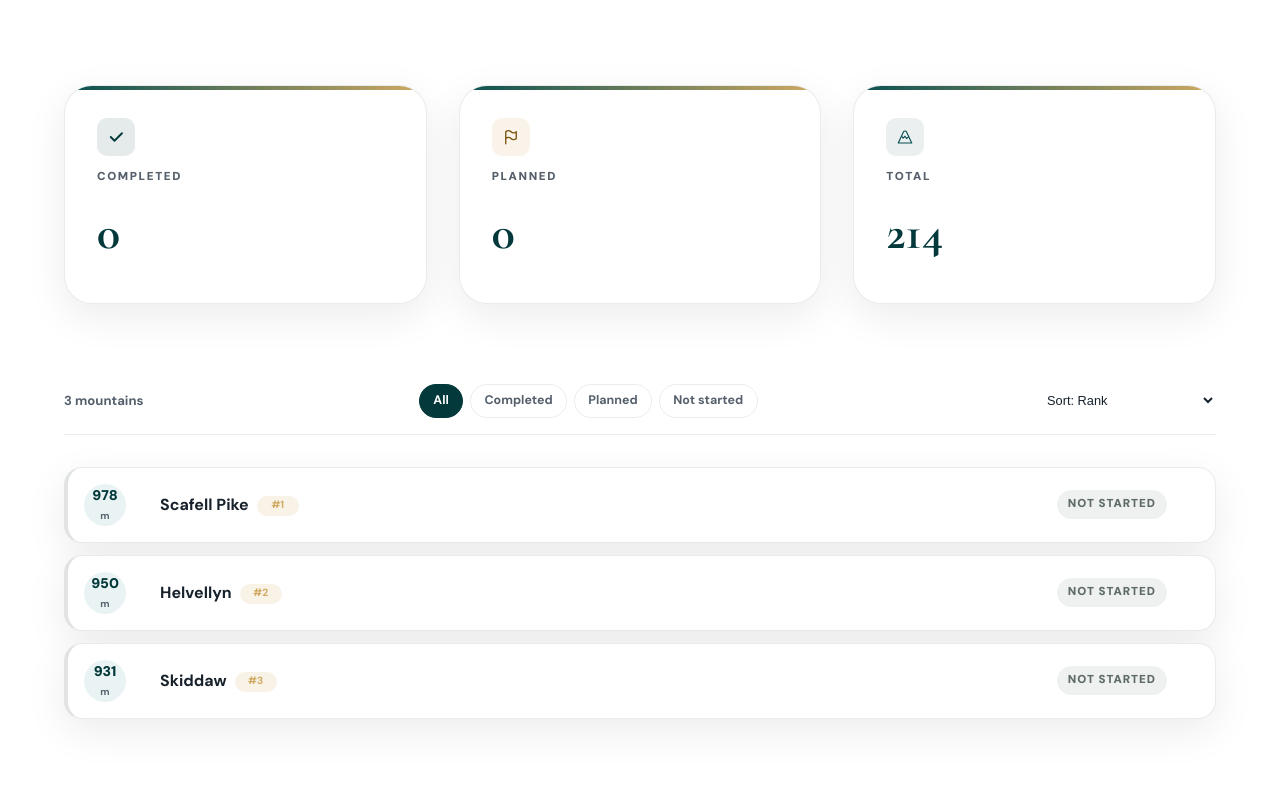
Test: CollectionDetailPage — success state › shows empty state when filter returns no results
This screenshot has width=1280, height=800.
(page scrolled)
Check: the text "Scafell Pike" is shown, box x1=160 y1=494 x2=249 y2=515
Click the button "Completed". click: point(519, 401)
box: x1=470 y1=384 x2=567 y2=418
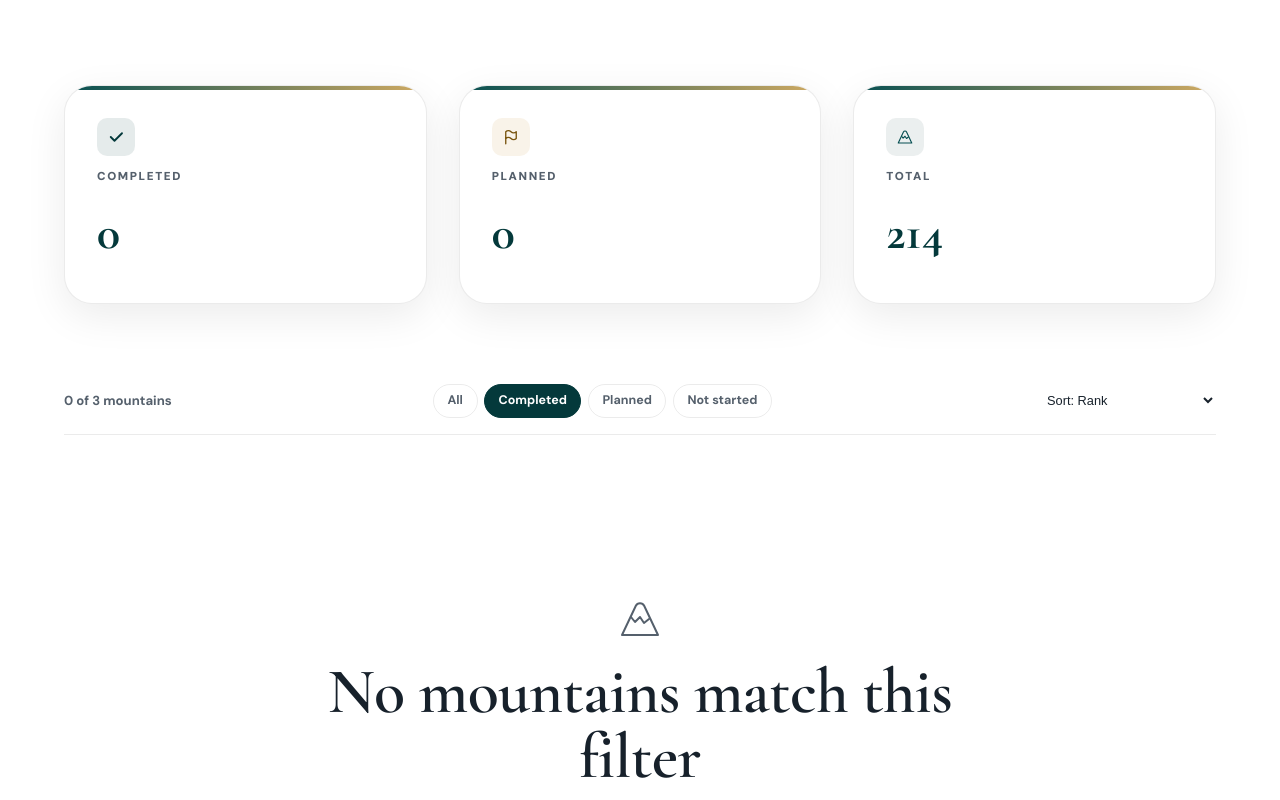
Check: the heading "No mountains match this filter" is shown, box x1=328 y1=653 x2=952 y2=795
